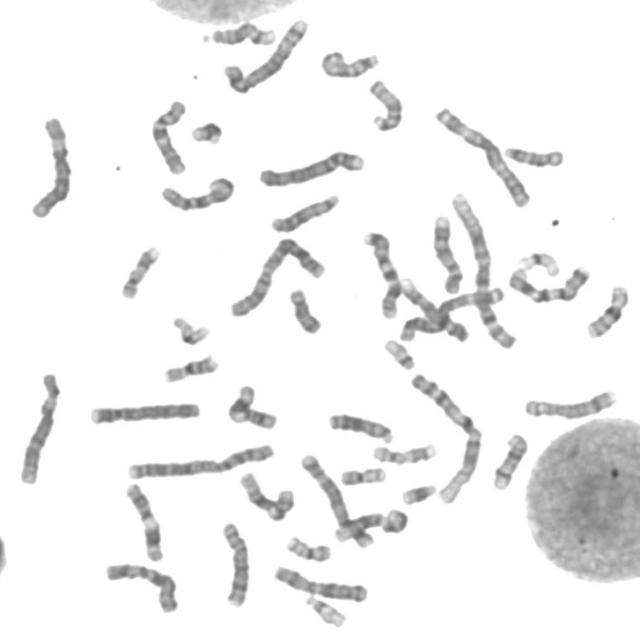A1: (446, 184, 518, 351), (406, 366, 486, 506)
A2: (224, 231, 329, 319), (122, 435, 279, 481)
A3: (430, 99, 535, 209), (392, 284, 509, 354)
B4: (254, 144, 368, 189), (85, 396, 204, 426)
B5: (296, 447, 378, 549), (219, 12, 312, 95)
C10: (146, 93, 191, 176), (156, 170, 238, 213)
C11: (121, 478, 167, 564), (222, 379, 282, 431)
C12: (235, 466, 298, 523), (329, 505, 410, 543)
C6: (13, 365, 64, 486), (25, 109, 75, 219)
C7: (357, 225, 405, 320), (504, 259, 594, 306)
C8: (520, 383, 621, 420), (216, 515, 254, 610)
C9: (396, 273, 472, 343), (428, 209, 466, 295)
D13: (267, 189, 343, 234), (324, 406, 397, 445)
D14: (488, 427, 532, 492), (199, 17, 278, 47)
D15: (364, 73, 407, 133), (317, 45, 383, 79)
E16: (581, 278, 633, 340), (159, 349, 221, 384)
E17: (116, 239, 163, 301), (368, 437, 441, 467)
E18: (284, 282, 325, 336), (500, 140, 567, 168)
F19: (168, 310, 214, 347), (514, 245, 564, 278)
F20: (282, 530, 335, 563), (336, 461, 390, 486)
G21: (397, 477, 440, 507), (187, 115, 225, 146)
G22: (301, 590, 350, 629), (380, 333, 418, 371)
X: (101, 556, 183, 616), (270, 559, 372, 605)
